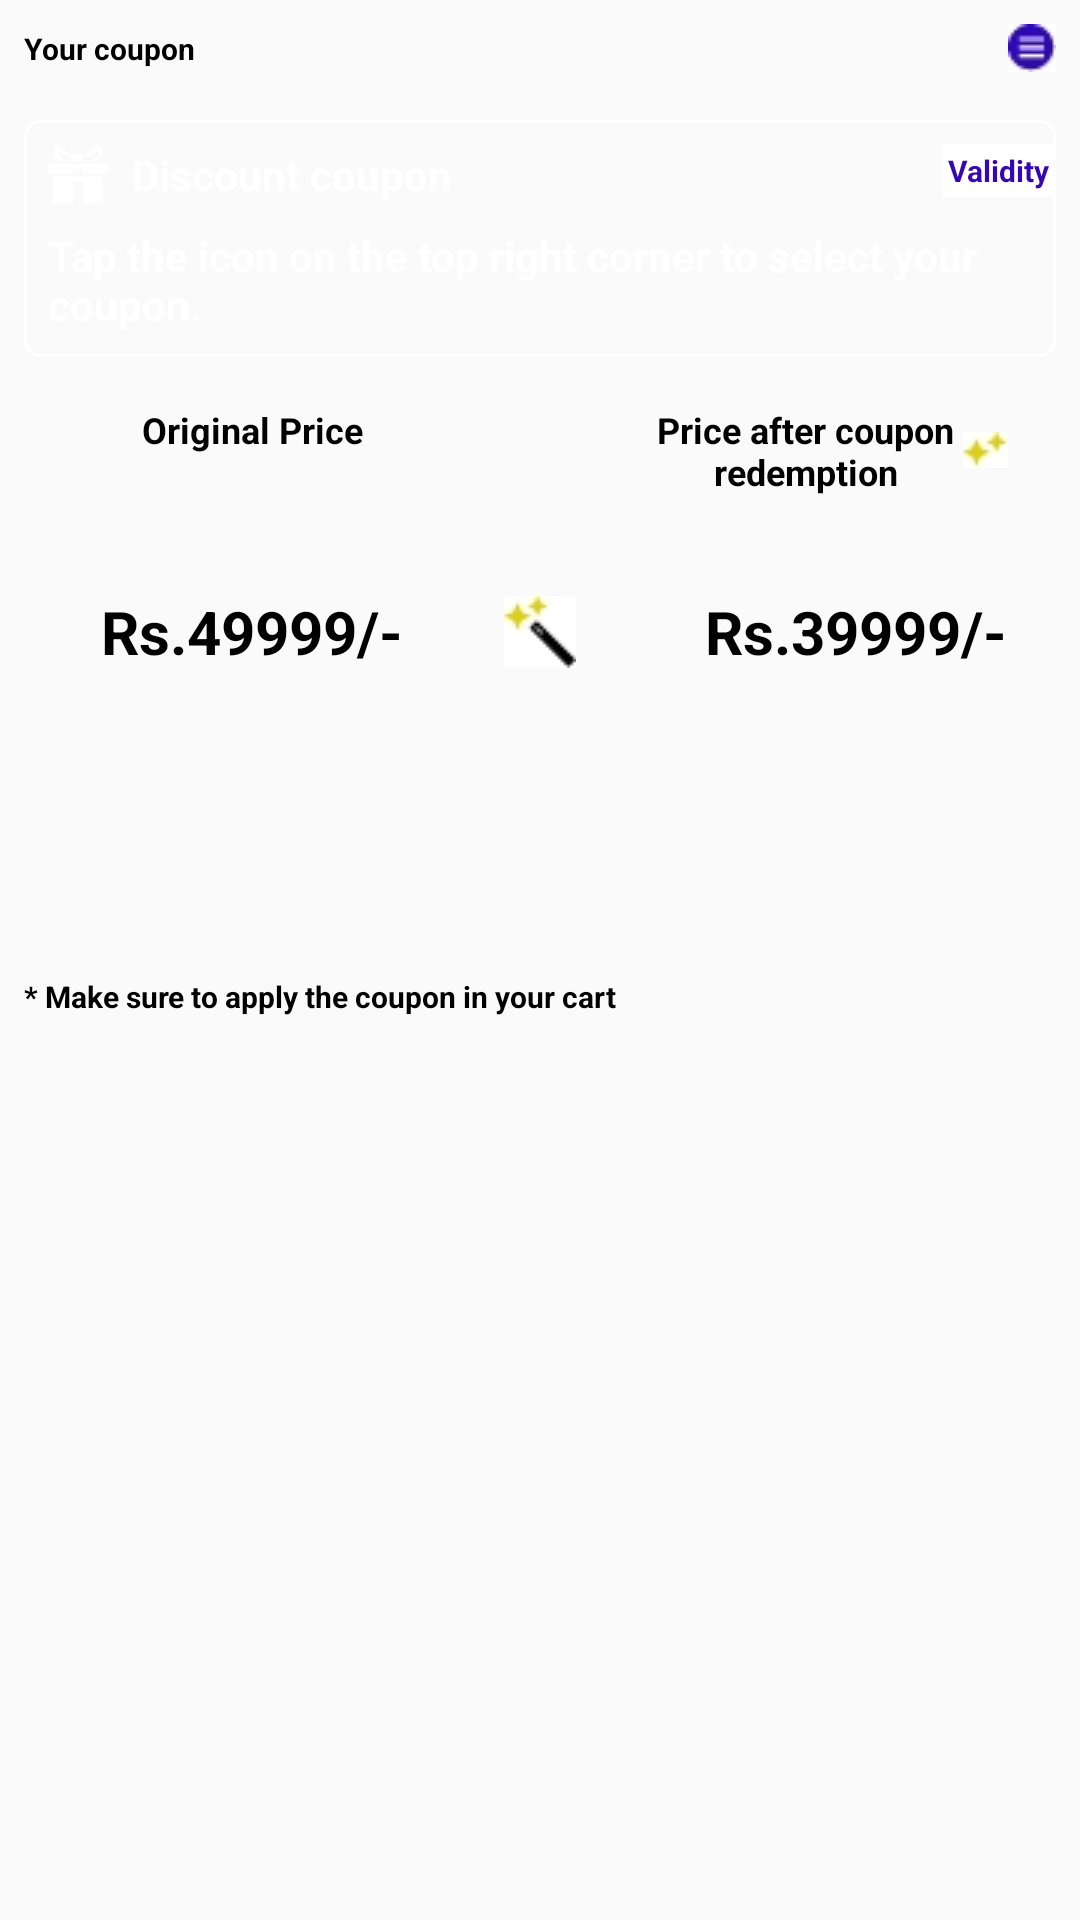

Named icons in this screenshot (1080 × 1920) and their bounding boxes, (x1, y1, x2, y2):
magic stick: (504, 596, 576, 668)
